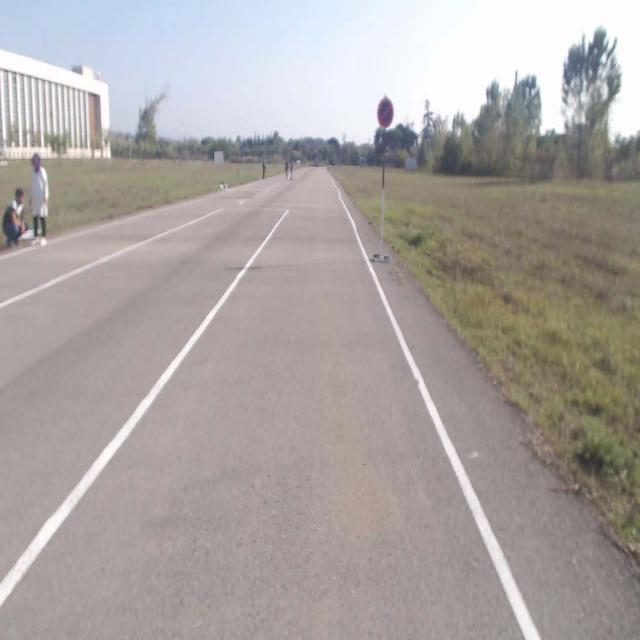parkyasak: (379, 97, 393, 126)
